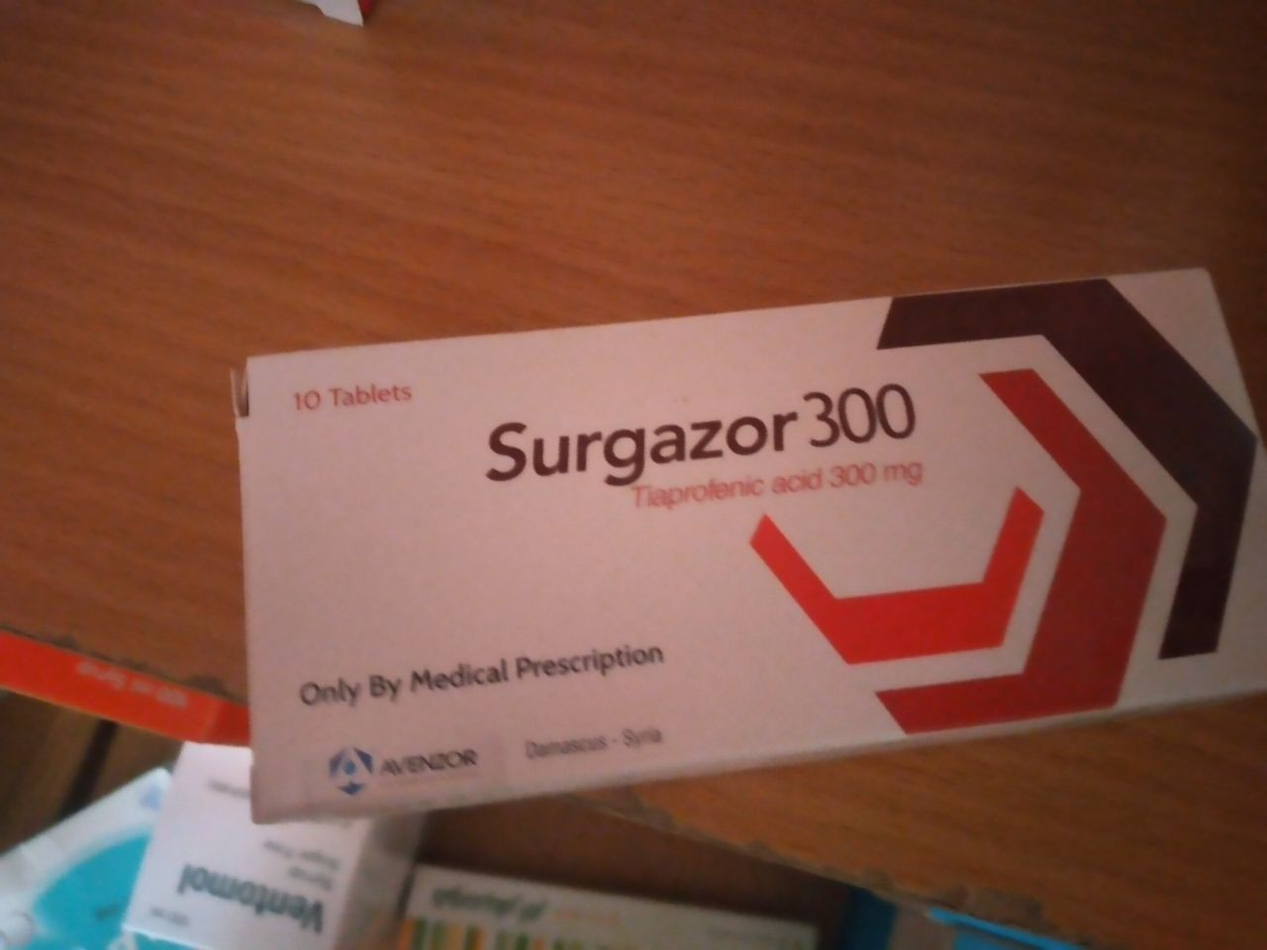Medicine: (220, 257, 1267, 831)
